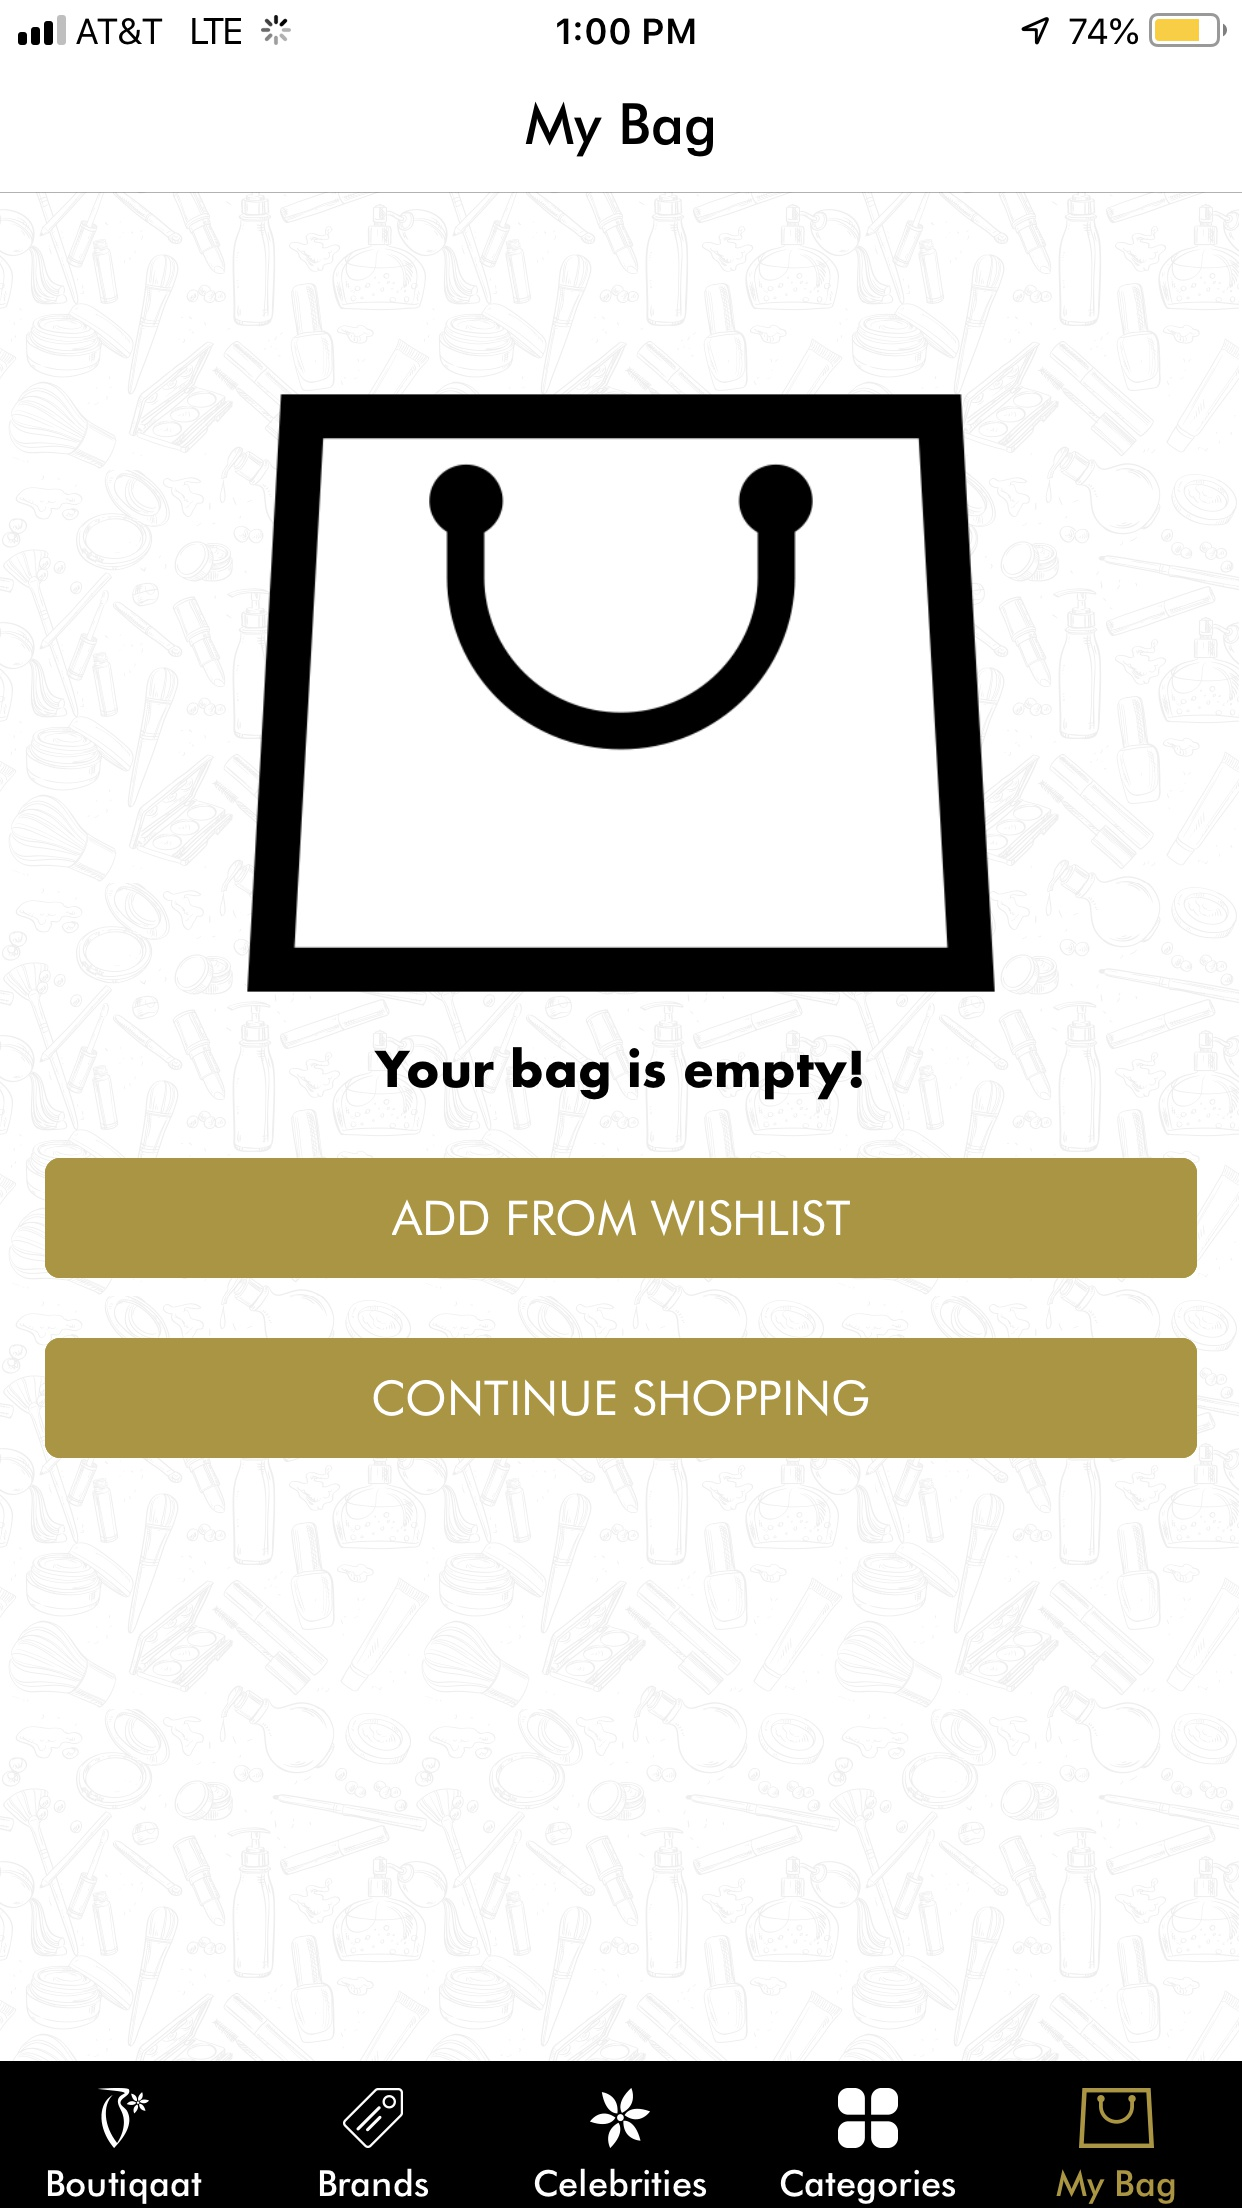BackgroundImage: (2, 193, 1242, 2061)
Icon: (1080, 2087, 1156, 2149), (837, 2087, 899, 2149), (343, 2087, 403, 2149)
Image: (246, 393, 996, 993), (588, 2087, 651, 2149), (97, 2087, 152, 2149)
Text: (375, 1046, 864, 1101), (525, 102, 714, 161), (779, 2169, 955, 2205), (49, 2169, 203, 2205), (534, 2167, 707, 2197), (1055, 2169, 1175, 2205), (320, 2169, 431, 2197)
TextButton: (45, 1157, 1198, 1278), (45, 1338, 1198, 1459)
UpperTaskBar: (2, 2, 1242, 49)
